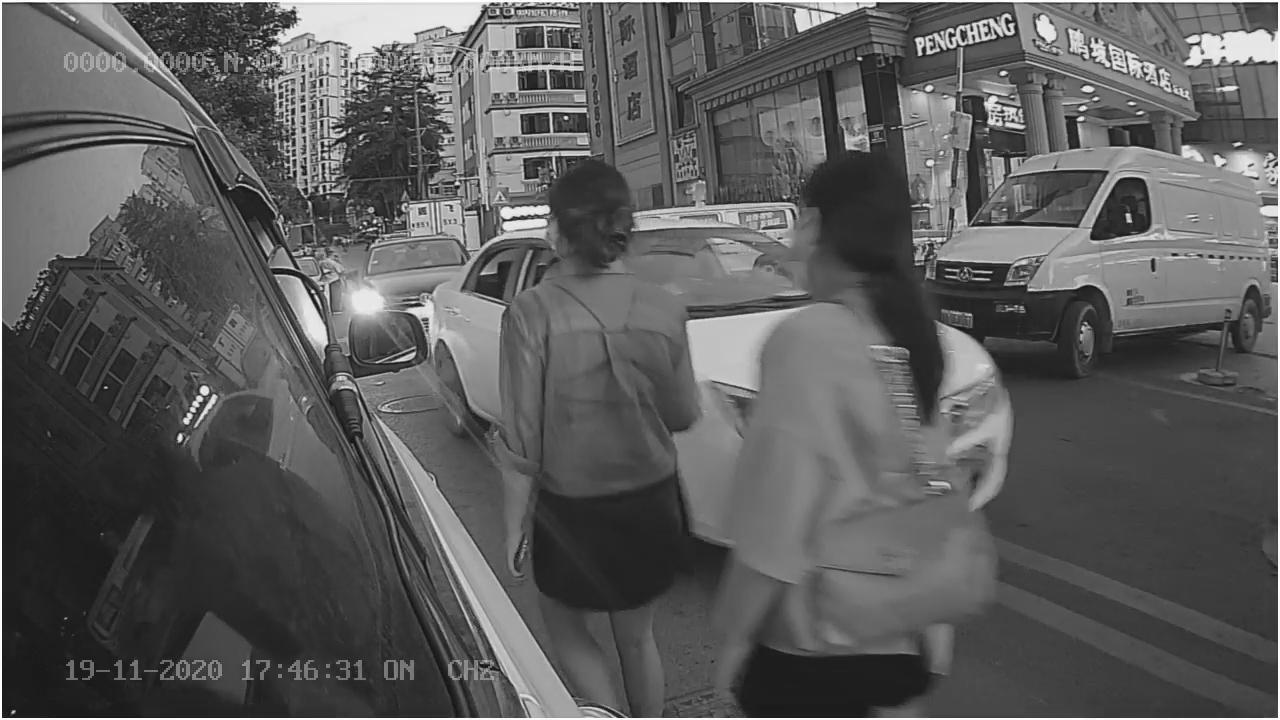person: (729, 163, 979, 688), (507, 161, 705, 610)
